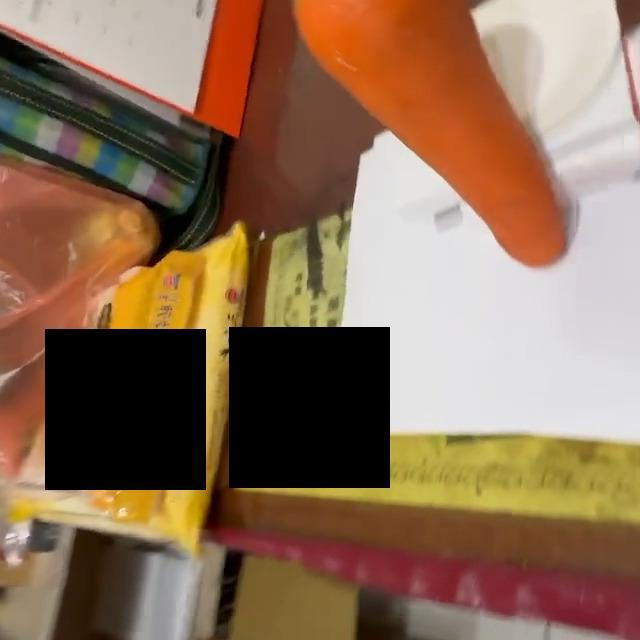carrot: (292, 1, 574, 269)
